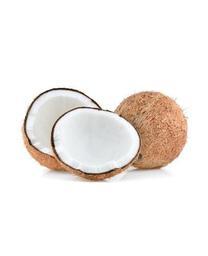coconut: (21, 86, 106, 174), (49, 106, 140, 183), (111, 92, 188, 169)
